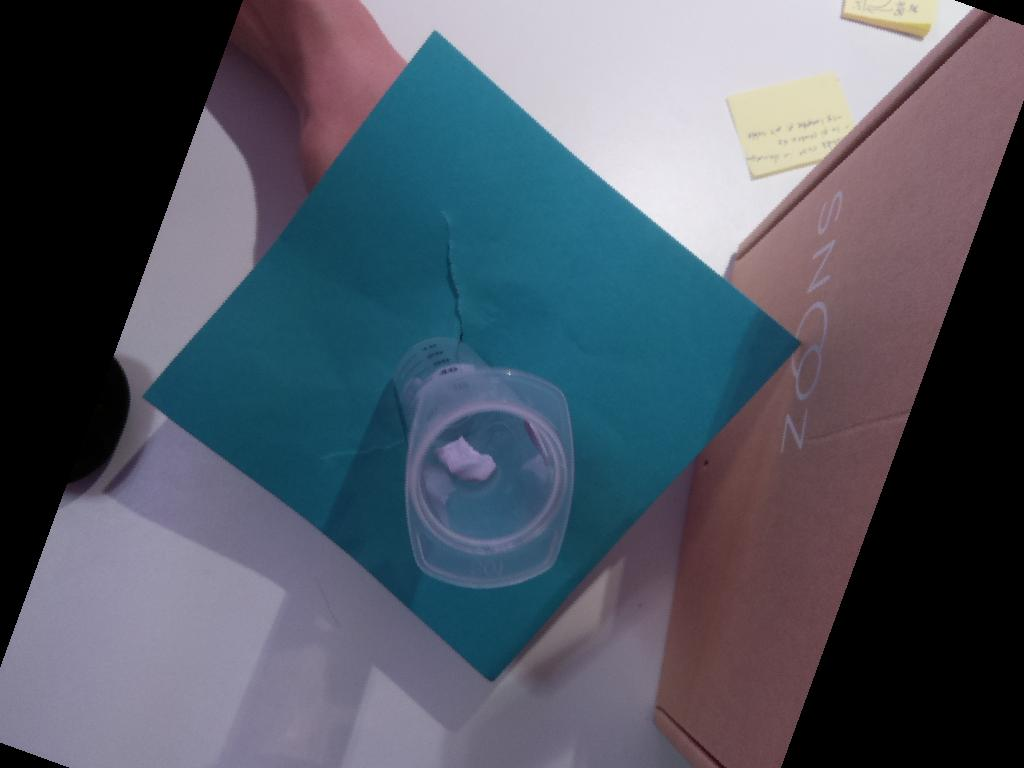dirty: (403, 369, 576, 590)
